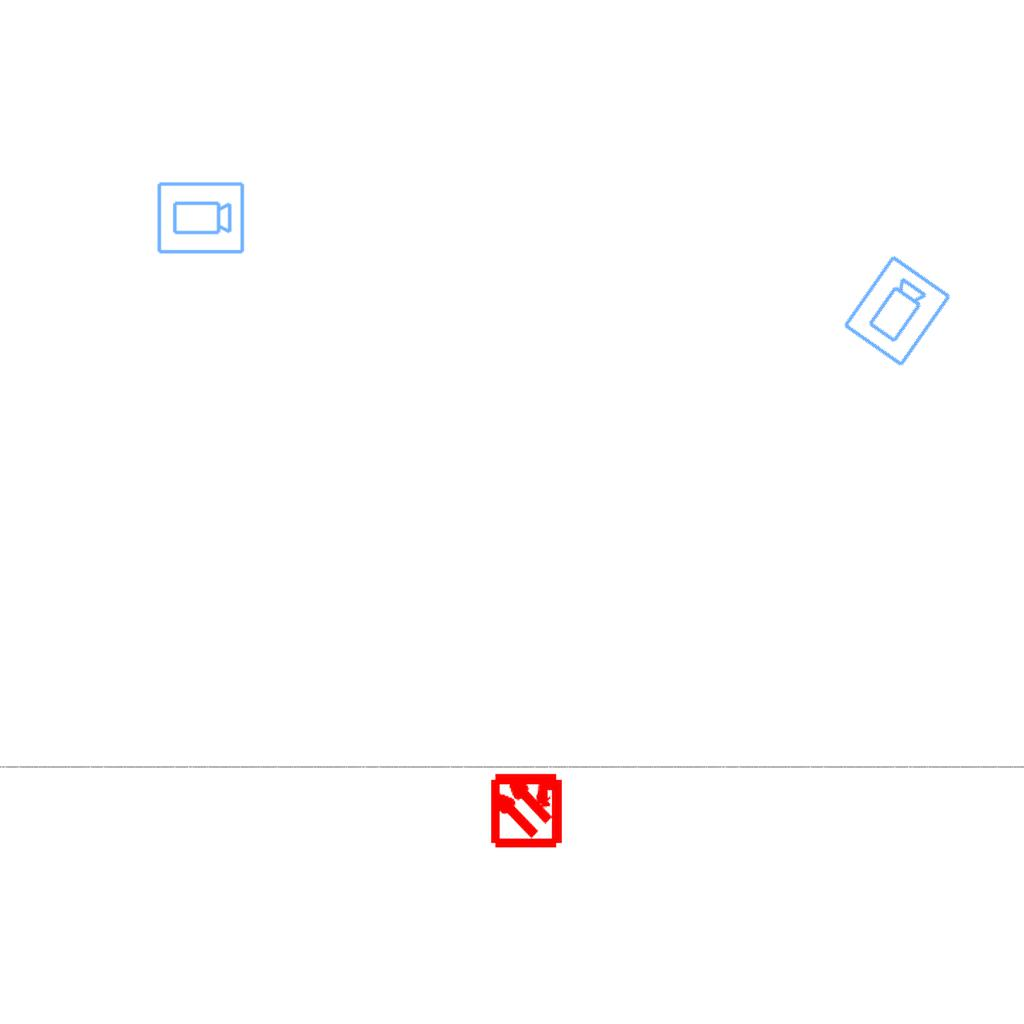KFO_Kamera_mit_Festobjektiv: (839, 252, 956, 371), (155, 180, 246, 257)
OT_Multisensormelder_(Kombination_RMO_WMD): (470, 752, 583, 865)
